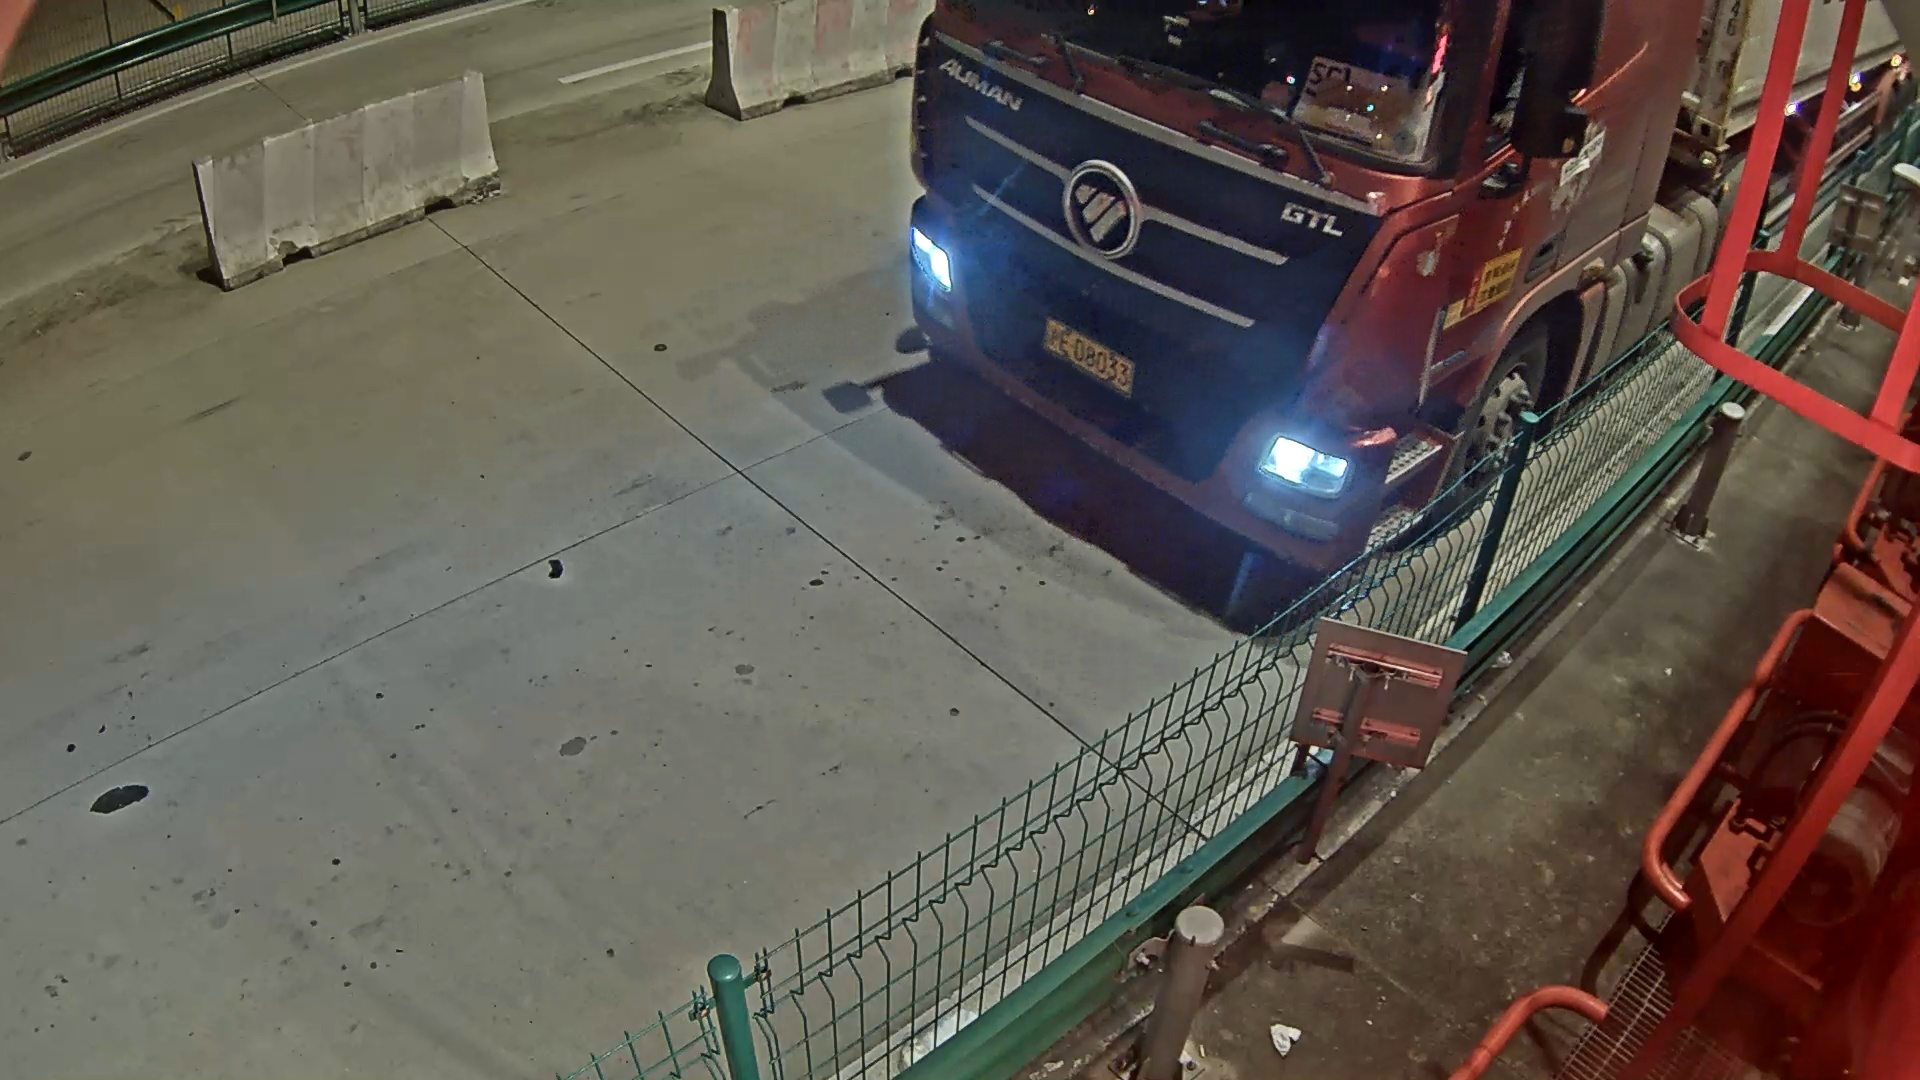head: (899, 8, 1489, 588)
plate: (1042, 314, 1159, 408)
